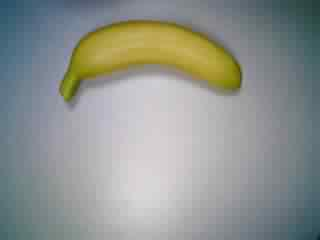banana: (56, 17, 244, 109)
